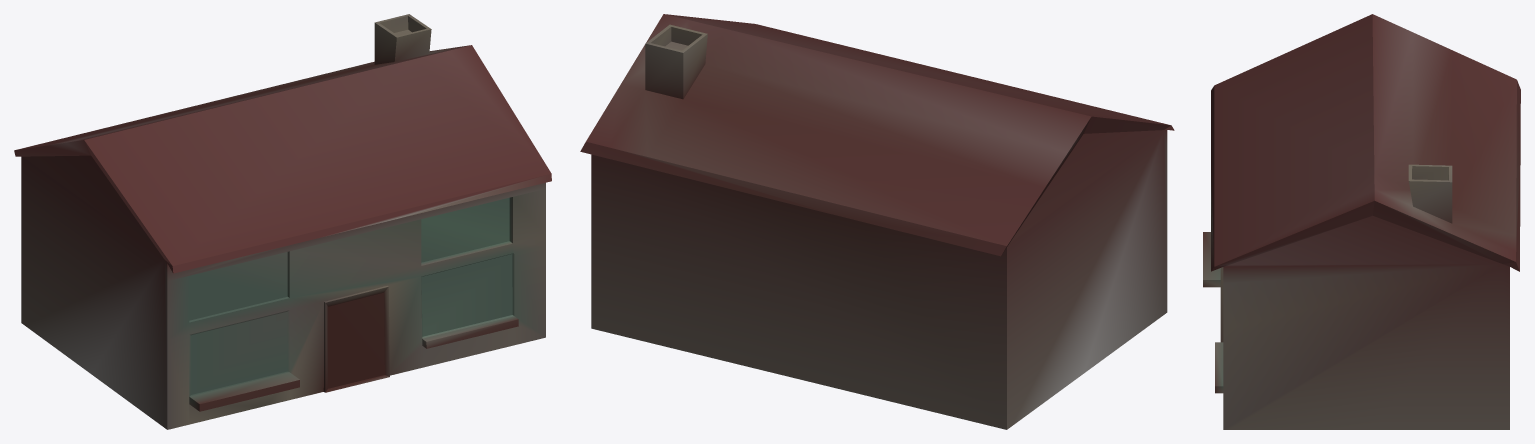
File: domek.fbx
3 views of the same model, side by side, from view 1: azimuth 30°, elevation 25°; view 2: azimuth 150°, elevation 25°; view 3: azimuth 270°, elevation 25° (orthographic). The views are drawn at different scales.
Visible parts, largest first — view 1: Cube; view 2: Cube; view 3: Cube.
Part boxes in pixels (bbox=[...]): Cube: bbox=[14, 14, 551, 429]; Cube: bbox=[580, 14, 1174, 429]; Cube: bbox=[1203, 14, 1520, 429].
Size of the model in its own units: 1241 by 741 by 891.
